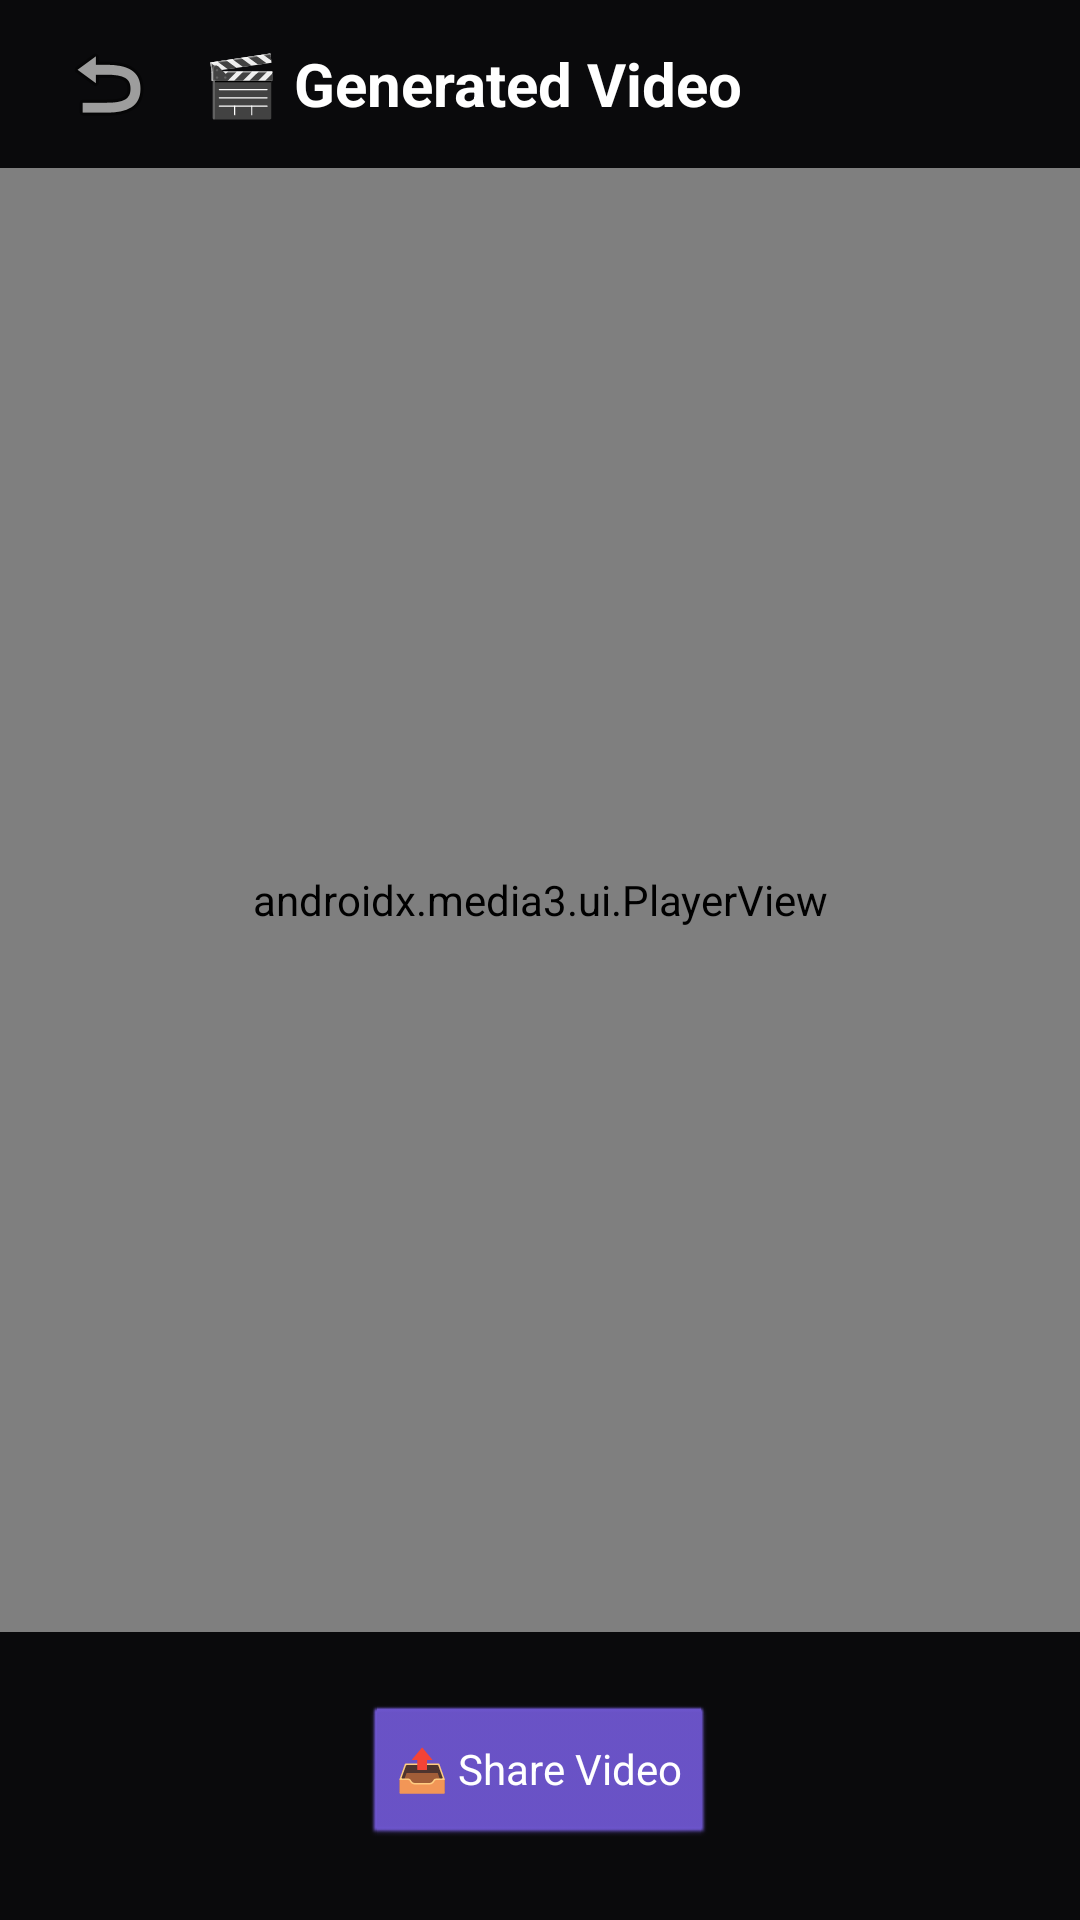

Icons on this 1080*1920 Android screen, each with its box as (x1, y1, x2, y2):
revert: (78, 56, 141, 113)
